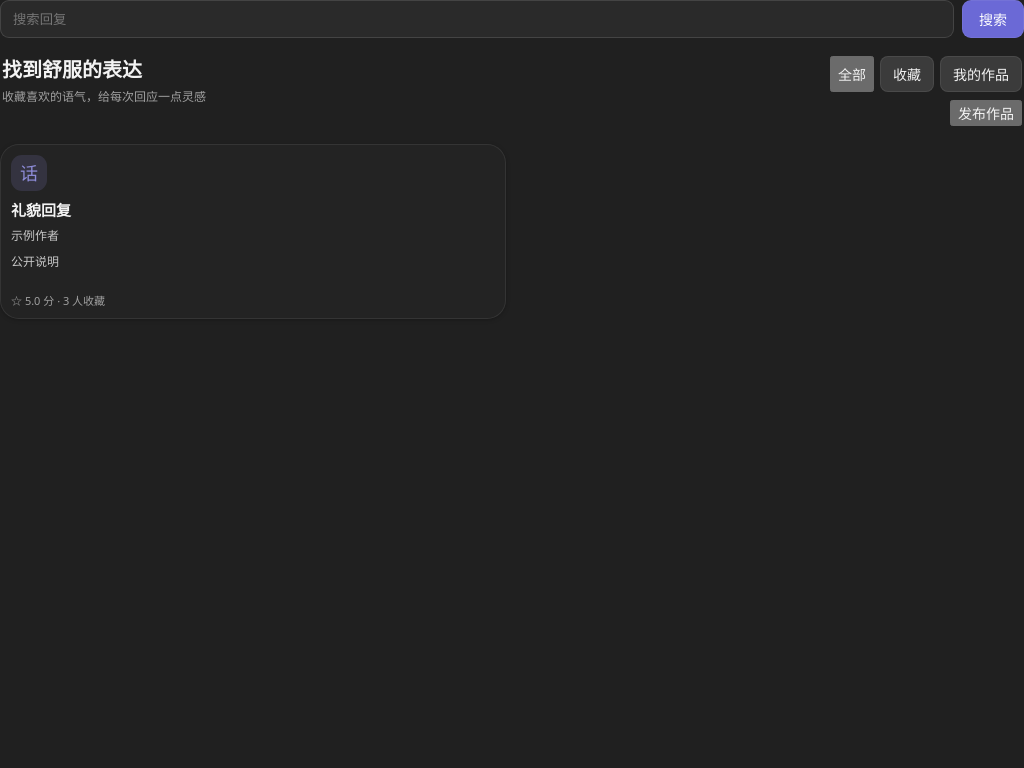
reply details store an explicit local copy and never hide the prompt
This screenshot has width=1024, height=768.
Click the button with aria-label "查看回复 礼貌回复" at coordinates (29, 173), box [0,144,506,319]
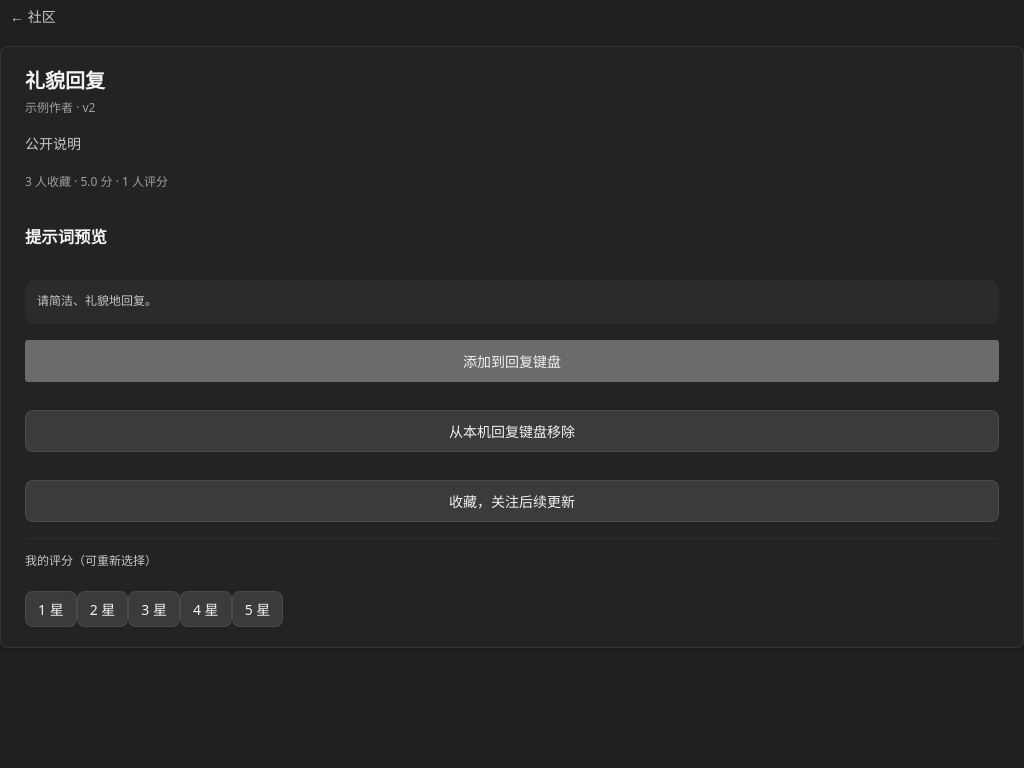
expect the text "请简洁、礼貌地回复。" is shown: met, box [25,280,999,324]
Click the button "添加到回复键盘" at coordinates (512, 360), box [25,340,999,382]
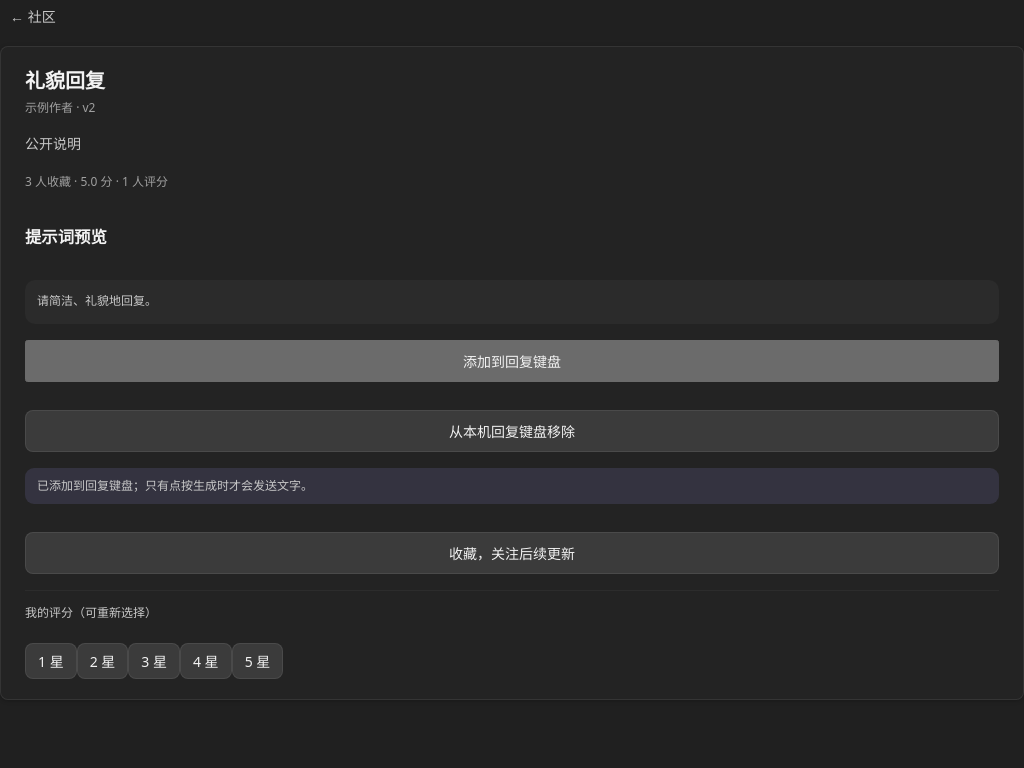
expect the text "已添加到回复键盘；只有点按生成时才会发送文字。" is shown: met, box [25,468,999,504]
